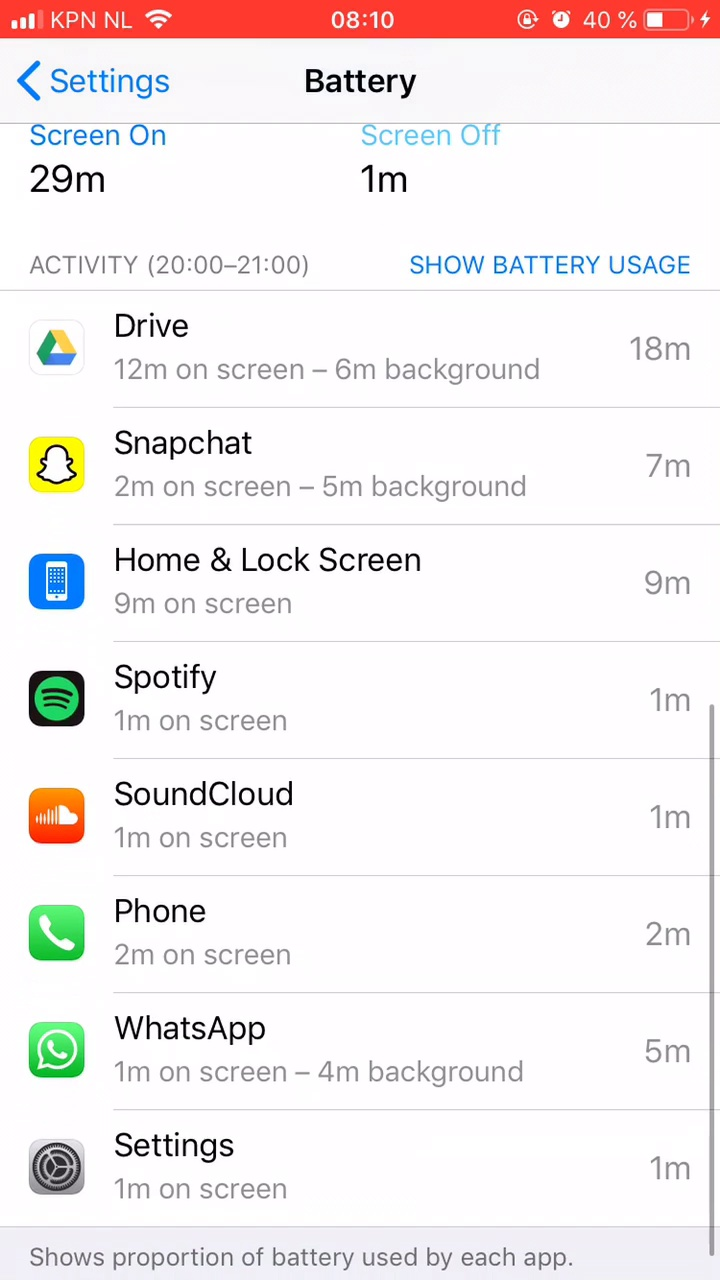activity: (26, 233, 331, 282)
app: (30, 305, 709, 392), (22, 421, 701, 508), (18, 534, 697, 621), (23, 650, 702, 737), (22, 768, 701, 855), (20, 890, 699, 977), (23, 1007, 702, 1094), (19, 1126, 698, 1213)
